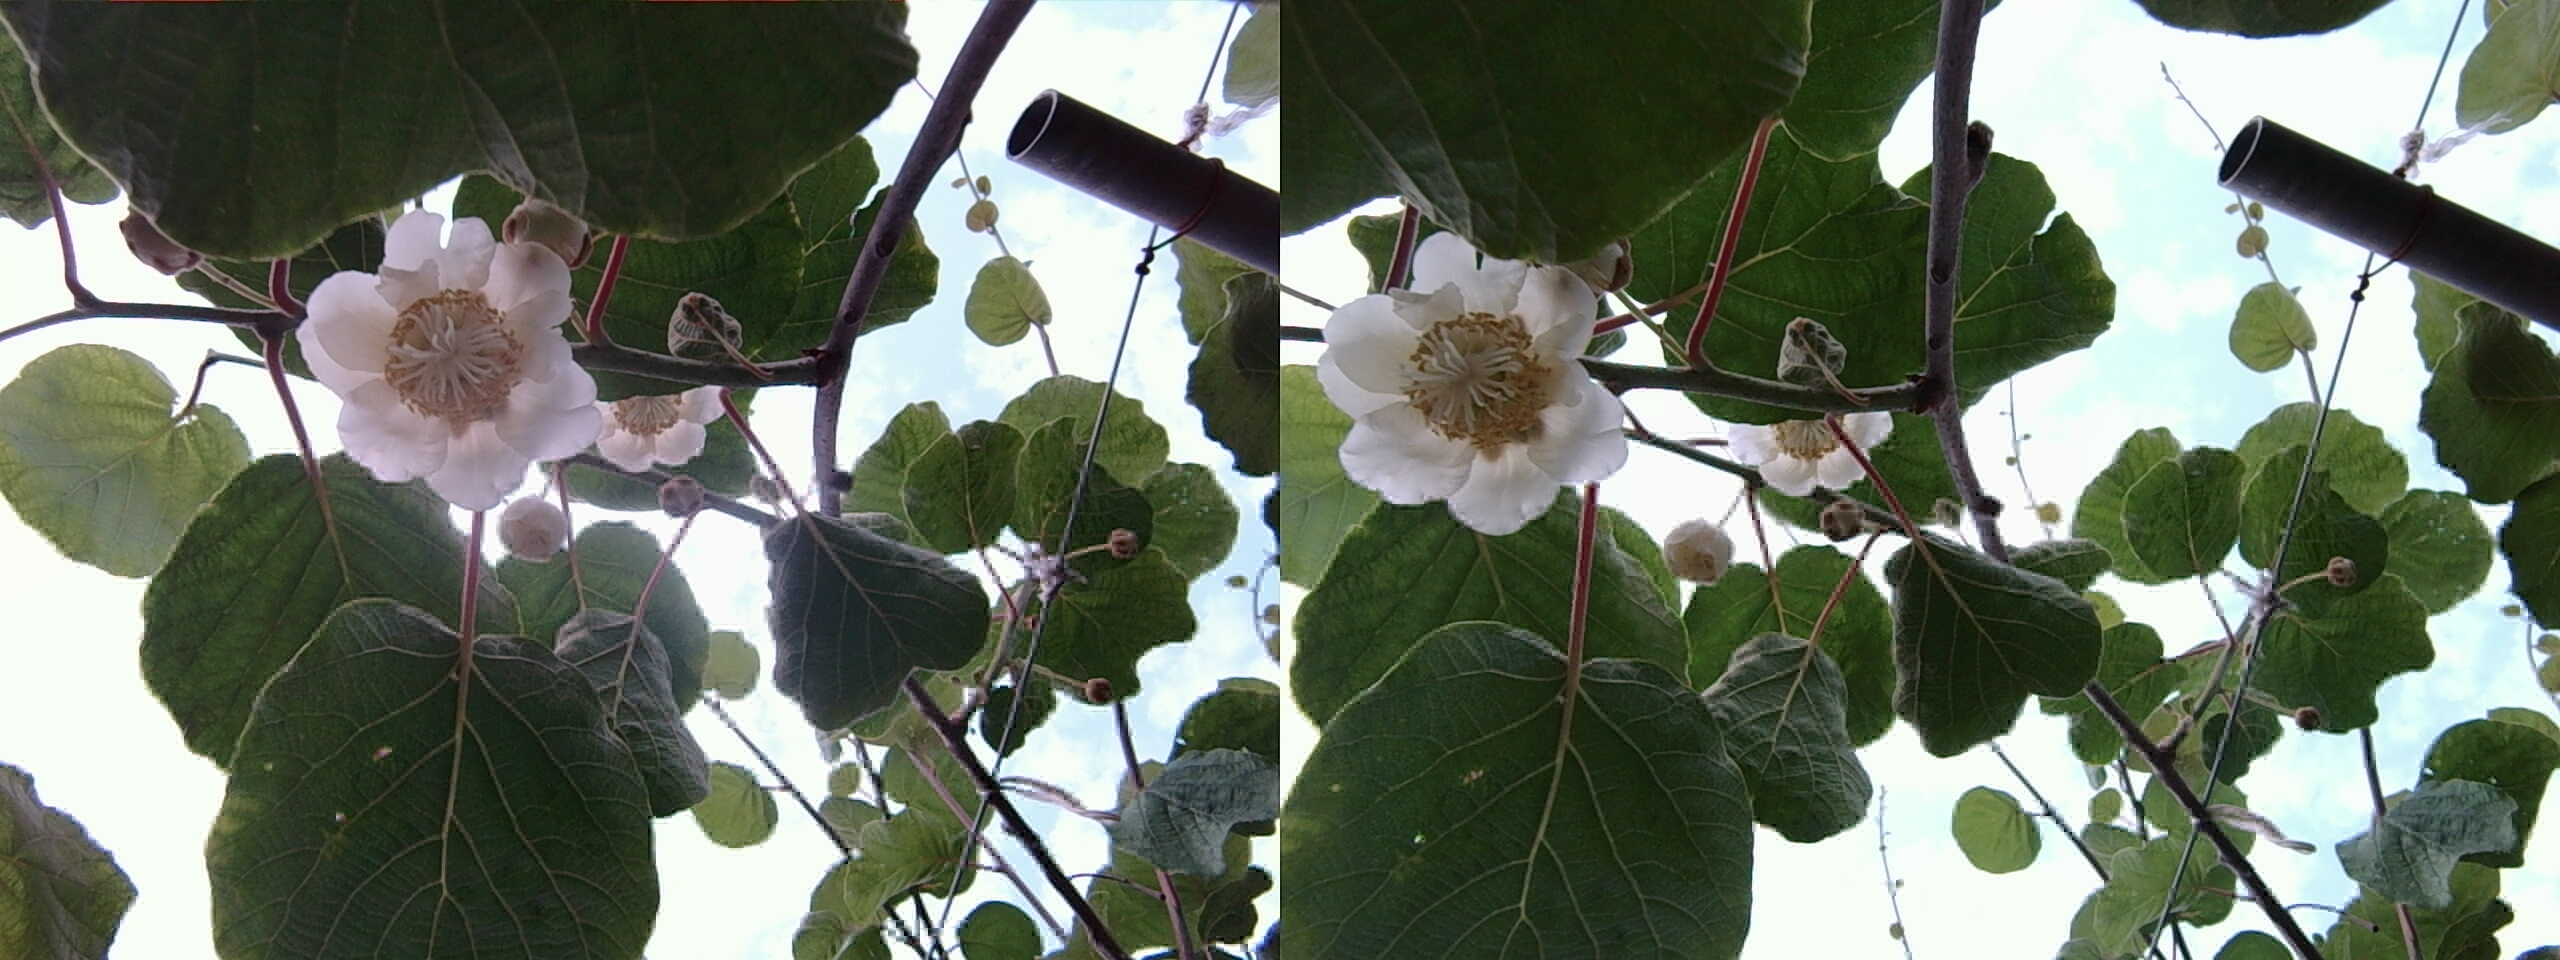flower: (300, 211, 589, 500), (1321, 247, 1615, 519), (1721, 398, 1912, 498), (575, 356, 723, 469)
